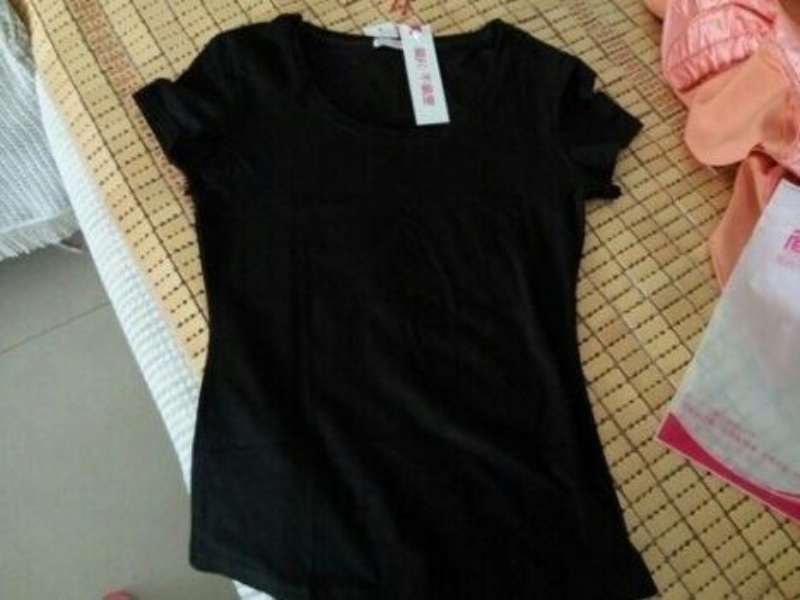short_sleeved_shirt: (130, 10, 658, 598)
